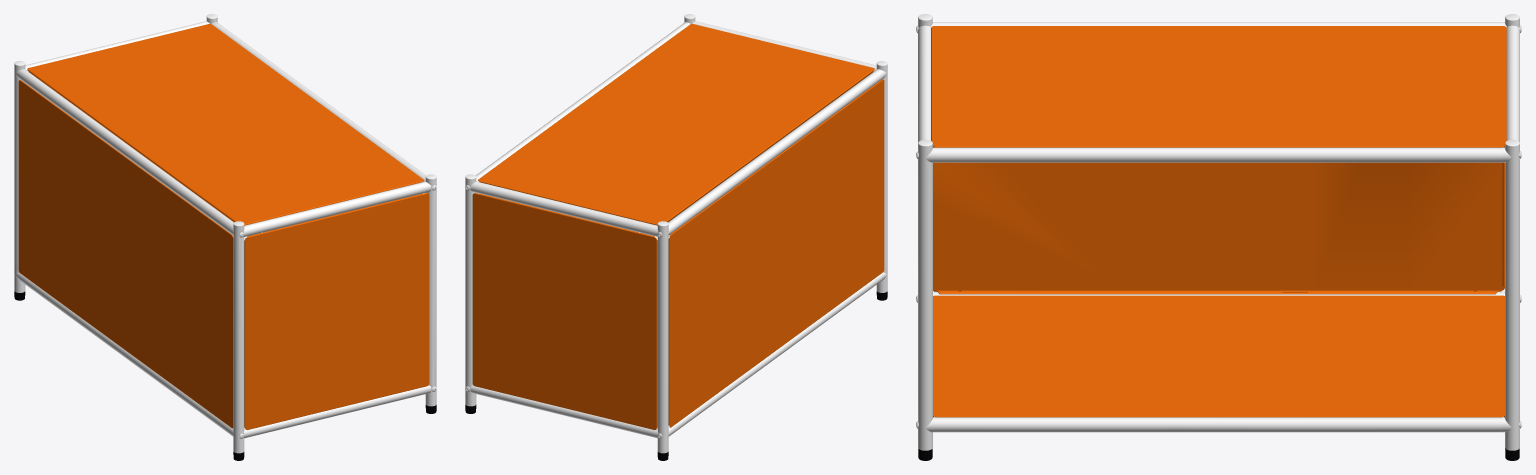
File: 80x40x40-1-3-Orange_optimized_optimized.glb
3 views of the same model, side by side, from view 1: azimuth 30°, elevation 25°; view 2: azimuth 150°, elevation 25°; view 3: azimuth 270°, elevation 25° (orthographic). The views are drawn at different scales.
Parts seen in each view (by area): view 1: 直角鐵板-80x40-5 - 零件, new-上塞-1 - 零件; view 2: 直角鐵板-80x40-5 - 零件, new-上塞-1 - 零件; view 3: 直角鐵板-80x40-5 - 零件, new-上塞-1 - 零件.
Boxes of the visible parts, left/top/right/bottom form: 直角鐵板-80x40-5 - 零件: left=18, top=23, right=429, bottom=429; new-上塞-1 - 零件: left=14, top=14, right=436, bottom=453; 直角鐵板-80x40-5 - 零件: left=472, top=23, right=884, bottom=429; new-上塞-1 - 零件: left=465, top=14, right=887, bottom=453; 直角鐵板-80x40-5 - 零件: left=931, top=26, right=1506, bottom=417; new-上塞-1 - 零件: left=916, top=14, right=1521, bottom=450.
Size of the model in its own units: 0.3992 by 0.4453 by 0.7732.
